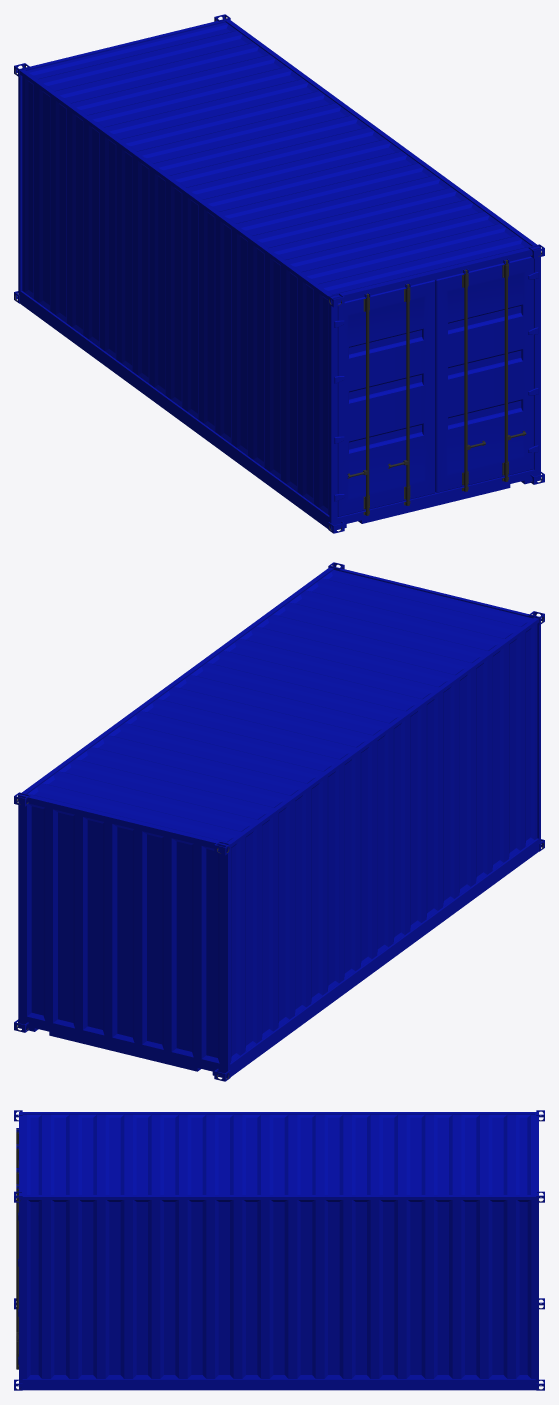
Rendered from draft.FBX.
3 renders of one model, top to bottom at view 1: azimuth 30°, elevation 25°; view 2: azimuth 150°, elevation 25°; view 3: azimuth 270°, elevation 25°, orthographic. The views are drawn at different scales.
Visible parts, largest first — view 1: Box005, Box007, Box029, Cylinder002, Cylinder003, Cylinder007, Cylinder006; view 2: Box005; view 3: Box005, Cylinder003.
Boxes of the visible parts, x1,y1,x2,y2 form: Box005: (18, 19, 540, 530); Box007: (435, 256, 533, 492); Box029: (337, 280, 435, 516); Cylinder002: (464, 269, 467, 488); Cylinder003: (504, 260, 507, 478); Cylinder007: (366, 293, 369, 512); Cylinder006: (406, 284, 409, 502); Box005: (18, 566, 540, 1078); Box005: (19, 1112, 538, 1390); Cylinder003: (16, 1185, 18, 1366).
Size of the model in its own units: 2302 by 2438 by 6028.
